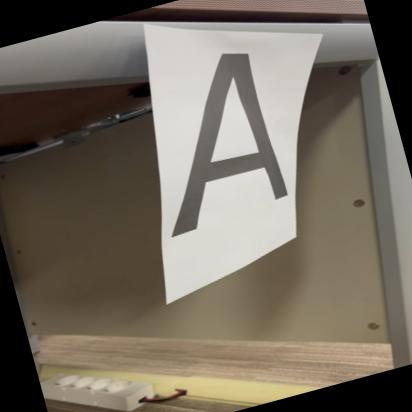seat: (123, 38, 301, 252)
